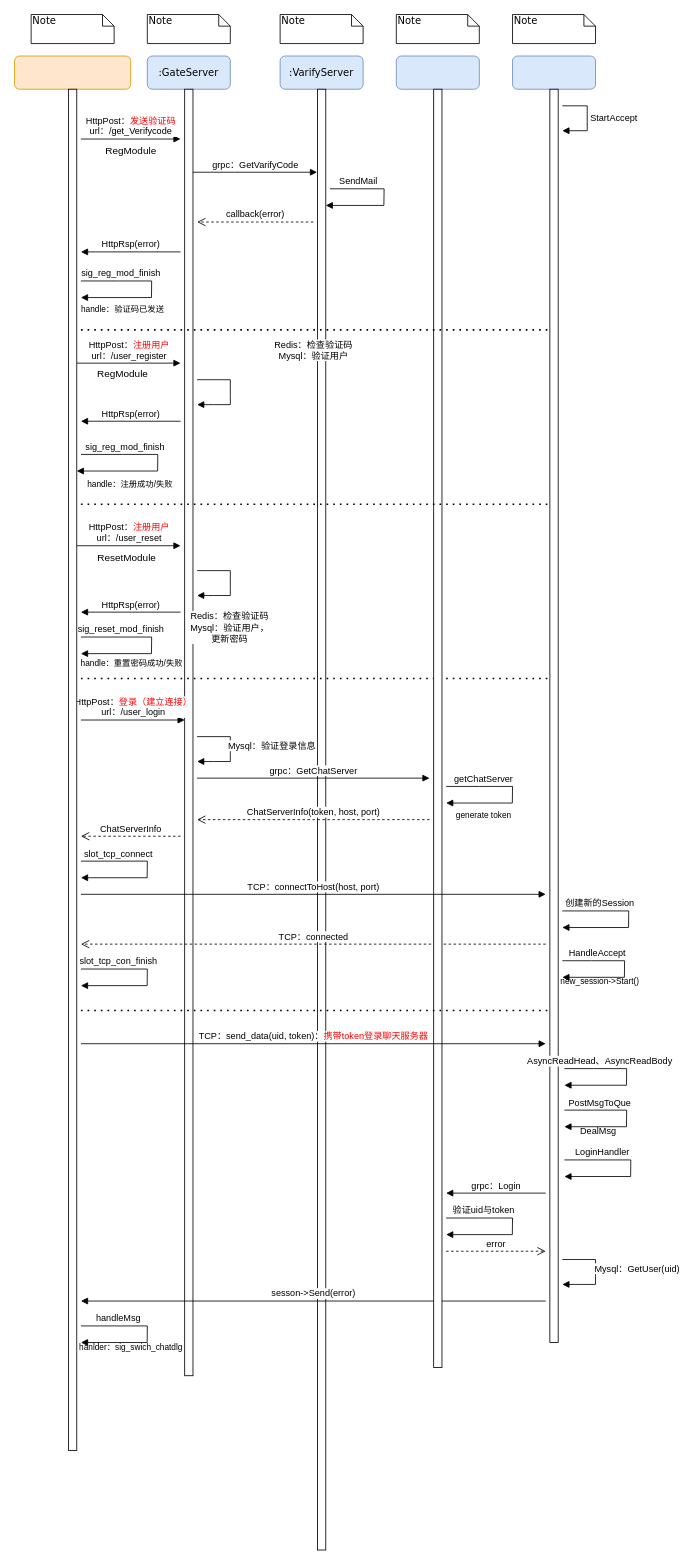
This 694x1565 diagram has some shape labels left out. The box of each missing label's shape, as (x1, y1, x2, y2) in pixels:
:ChatServer: (512, 55, 596, 537)
:Client: (14, 55, 131, 1450)
:StatusServer: (395, 55, 479, 1367)
